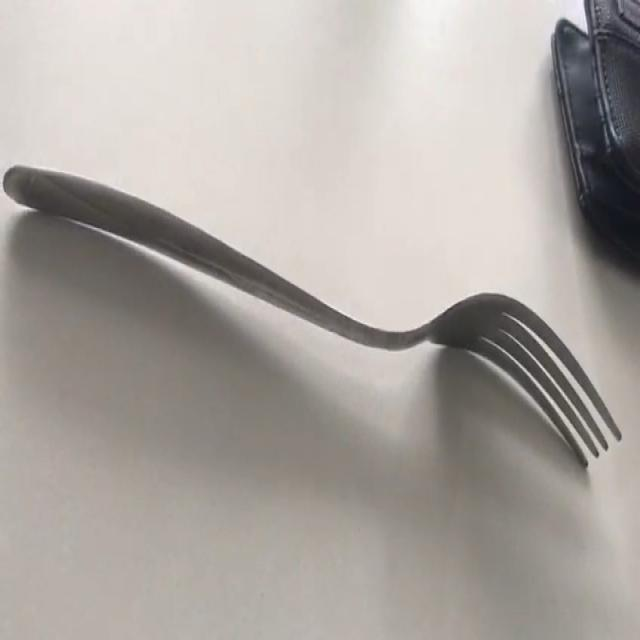spoon: (4, 166, 621, 465)
